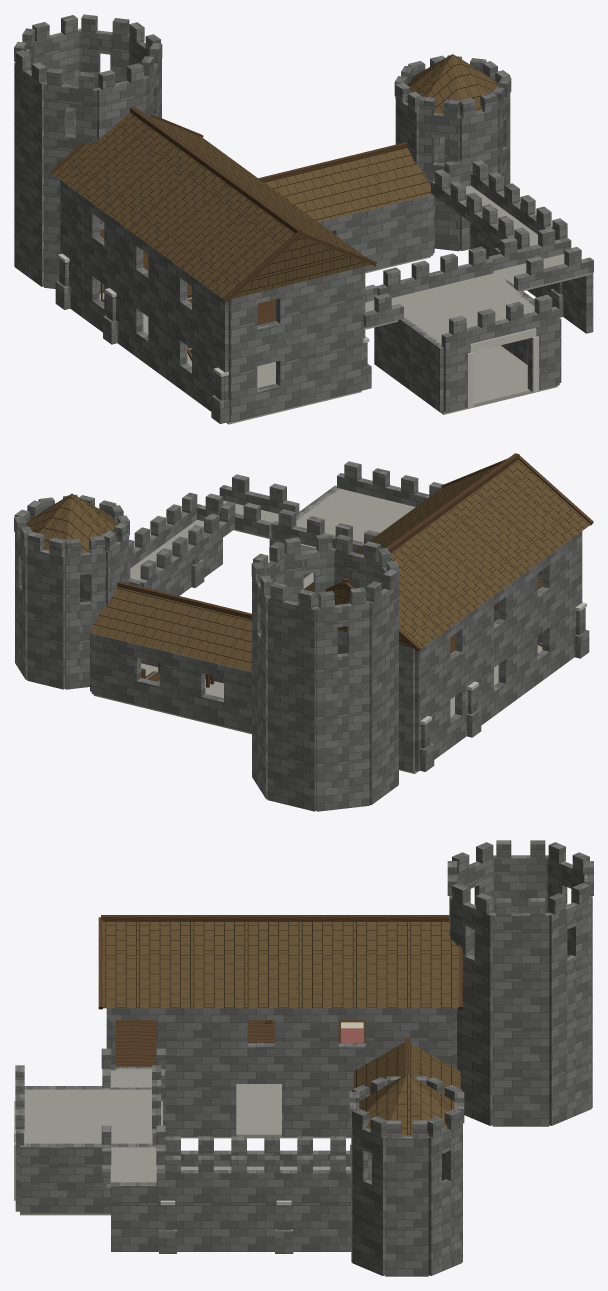
File: keep.glb
3 renders of one model, top to bottom at view 1: azimuth 30°, elevation 25°; view 2: azimuth 150°, elevation 25°; view 3: azimuth 270°, elevation 25°, orthographic. The views are drawn at different scales.
Parts seen in each view (by area): view 1: Keep_Shell_0, Keep_Roof_0, Keep_GroundFront_0, Keep_Upper_Wallwalk_0, Keep_Roof_2, Keep_Upper_Floor_1, Keep_Roof_1, Keep_Floor_0, Keep_GroundFront_1, Keep_Upper_Floor_0; view 2: Keep_Shell_0, Keep_Roof_0, Keep_Upper_Wallwalk_0, Keep_Roof_2, Keep_Upper_Floor_1, Keep_Roof_1, Keep_Floor_0; view 3: Keep_Shell_0, Keep_Roof_0, Keep_Upper_Shell_0, Keep_Upper_Wallwalk_0, Keep_GroundFront_0, Keep_Upper_Floor_1, Keep_Roof_2, Keep_Roof_1, Keep_Floor_0, Keep_Upper_Floor_0.
Part boxes in pixels (x1,y1,x2,y2): Keep_Shell_0: [14, 28, 593, 423]; Keep_Roof_0: [53, 54, 498, 299]; Keep_GroundFront_0: [228, 194, 559, 422]; Keep_Upper_Wallwalk_0: [363, 160, 593, 348]; Keep_Roof_2: [14, 14, 511, 118]; Keep_Upper_Floor_1: [363, 185, 591, 345]; Keep_Roof_1: [50, 106, 407, 302]; Keep_Floor_0: [99, 250, 557, 424]; Keep_GroundFront_1: [467, 328, 538, 408]; Keep_Upper_Floor_0: [99, 229, 275, 325]; Keep_Shell_0: [15, 485, 589, 811]; Keep_Roof_0: [26, 460, 590, 671]; Keep_Upper_Wallwalk_0: [129, 461, 443, 589]; Keep_Roof_2: [14, 494, 399, 609]; Keep_Upper_Floor_1: [130, 488, 415, 588]; Keep_Roof_1: [117, 453, 593, 651]; Keep_Floor_0: [64, 573, 542, 810]; Keep_Shell_0: [20, 855, 592, 1276]; Keep_Roof_0: [103, 922, 460, 1135]; Keep_Upper_Shell_0: [111, 1008, 452, 1070]; Keep_Upper_Wallwalk_0: [15, 1048, 351, 1185]; Keep_GroundFront_0: [15, 1008, 354, 1211]; Keep_Upper_Floor_1: [24, 1068, 350, 1187]; Keep_Roof_2: [350, 840, 593, 1138]; Keep_Roof_1: [98, 915, 462, 1074]; Keep_Floor_0: [20, 1084, 492, 1215]; Keep_Upper_Floor_0: [115, 1020, 365, 1066].
Bounding box in the file's own units: 22.31 × 11.08 × 25.48.
9 materials, 3 textured.
